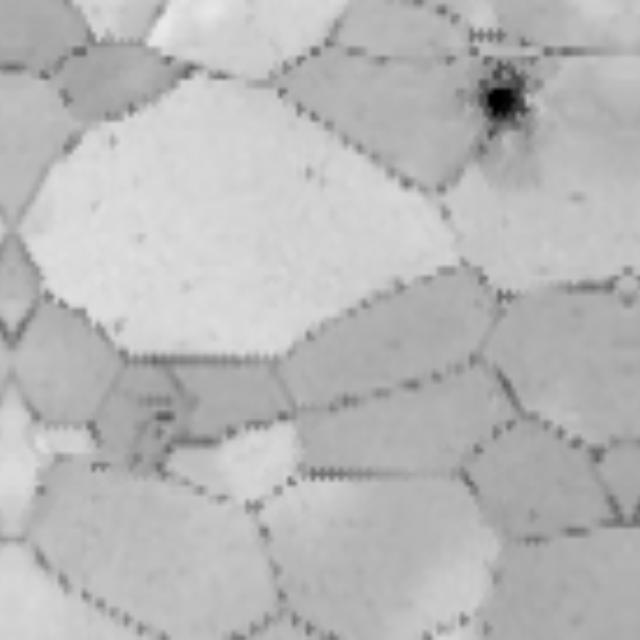good_void: (461, 45, 556, 190), (133, 392, 178, 440), (301, 156, 330, 194)
